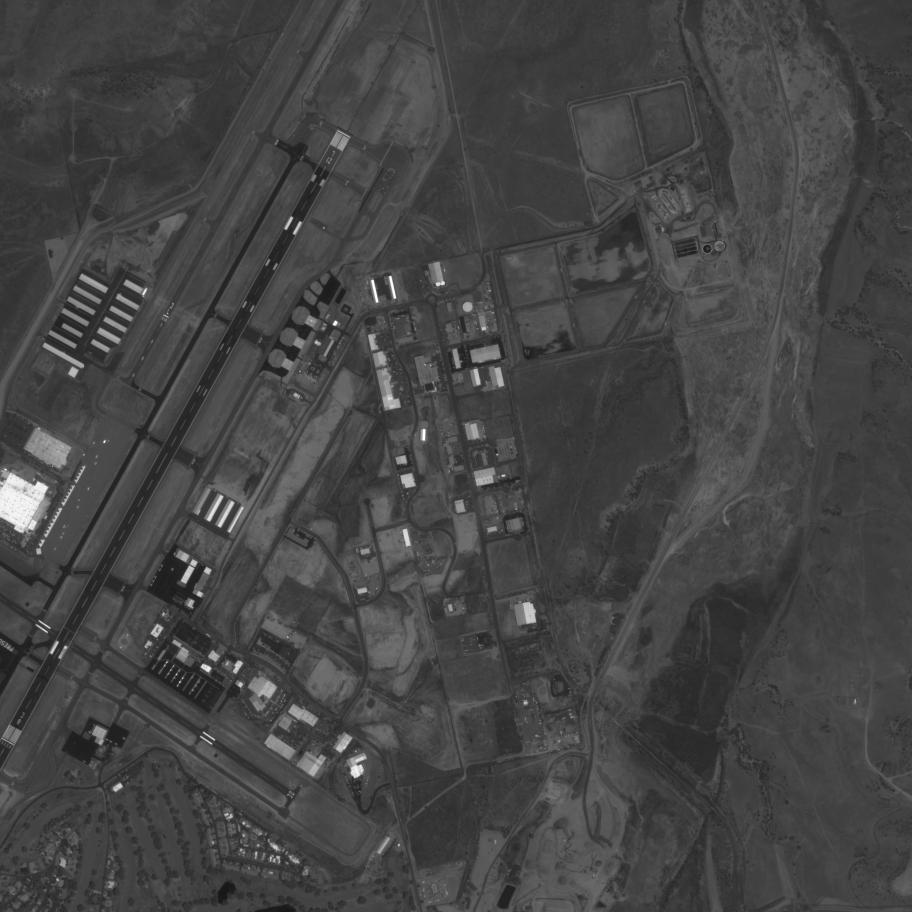plane: (92, 460, 98, 466), (104, 737, 110, 743), (157, 567, 163, 573), (74, 504, 80, 509), (61, 523, 67, 528), (170, 567, 175, 573), (108, 739, 113, 745), (82, 759, 87, 765), (105, 438, 111, 443), (94, 454, 99, 459), (60, 530, 65, 535), (52, 546, 57, 551), (122, 736, 127, 741), (153, 575, 158, 580), (151, 579, 156, 584), (149, 582, 154, 587), (88, 730, 92, 735), (160, 564, 164, 569), (58, 535, 62, 539), (77, 498, 81, 502), (114, 742, 118, 746)
storage-tank: (715, 240, 726, 253), (462, 302, 473, 314), (702, 243, 713, 255)
